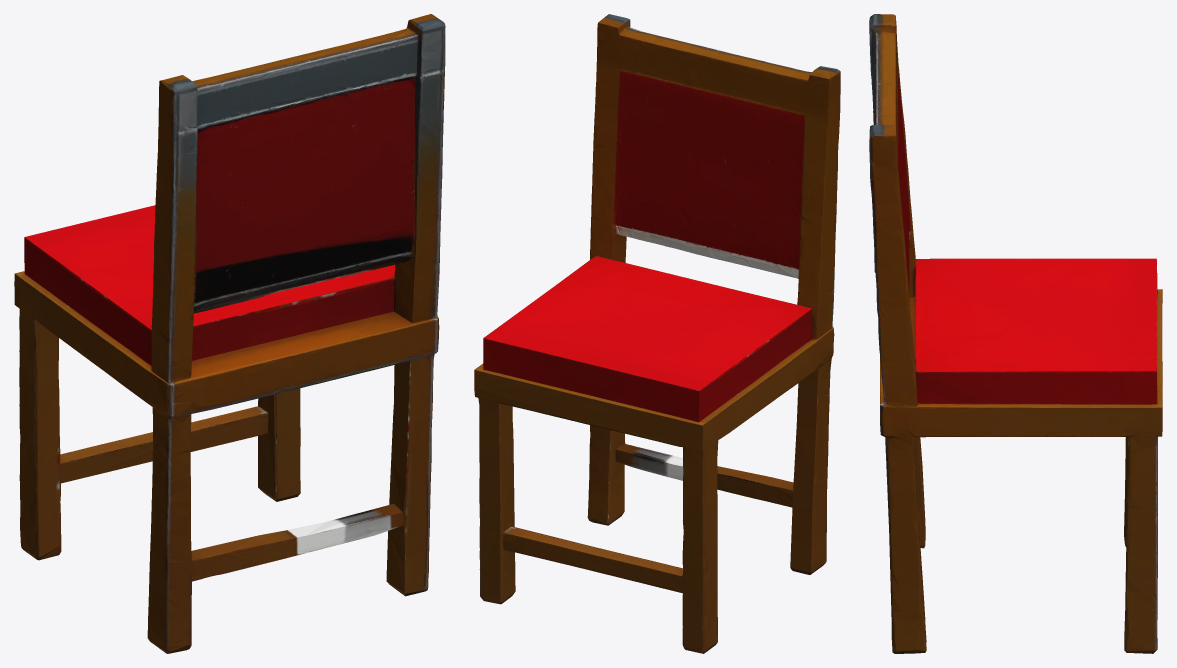
Rendered from chair.glb.
3 renders of one model, left to right at view 1: azimuth 30°, elevation 25°; view 2: azimuth 150°, elevation 25°; view 3: azimuth 270°, elevation 25°, orthographic. The views are drawn at different scales.
Parts seen in each view (by area): view 1: world; view 2: world; view 3: world.
Part boxes in pixels (x1,y1,x2,y2): world: (14,14,445,653); world: (474,14,840,653); world: (869,14,1162,653).
Bounding box in the file's own units: 0.4955 × 0.9985 × 0.5072.
Materials: 1 (1 with a texture image).
